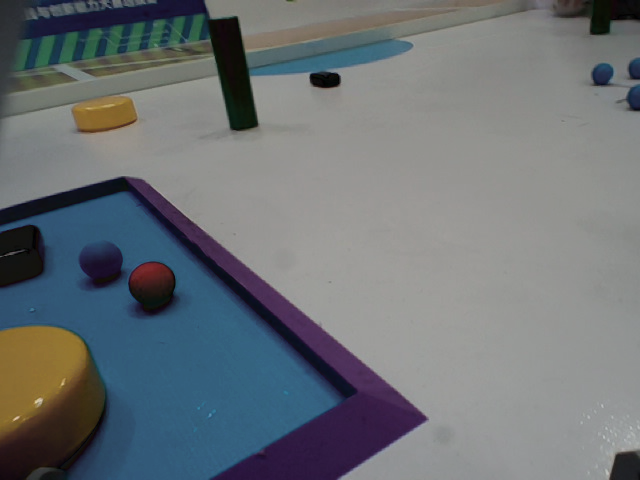black: (1, 222, 47, 274), (309, 69, 343, 87)
blue: (77, 243, 123, 279), (591, 63, 613, 84), (626, 85, 640, 111)
kuang: (1, 182, 432, 478)
red: (127, 266, 184, 308)
yellow: (1, 325, 110, 469), (71, 92, 137, 134)
zhuzi: (207, 17, 266, 141), (591, 2, 612, 37)
